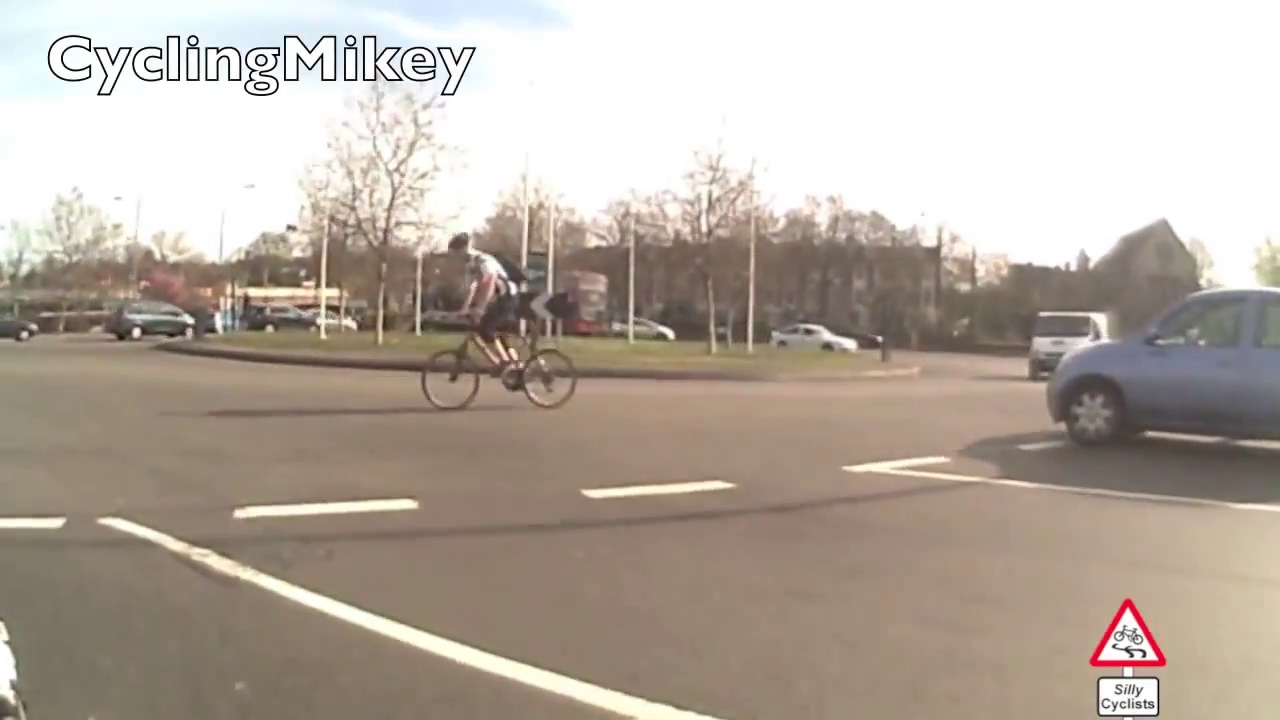cyclist_side: (421, 231, 580, 413)
